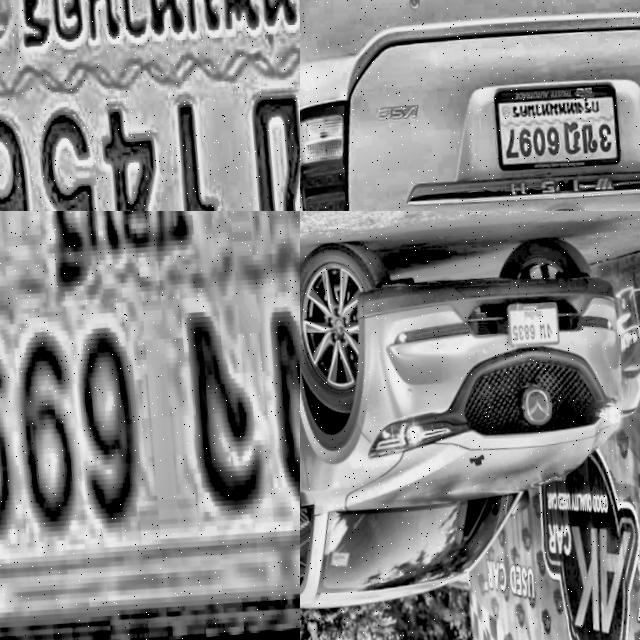license-plate: (0, 211, 300, 640), (0, 0, 300, 211), (481, 83, 619, 182), (497, 304, 556, 359)
